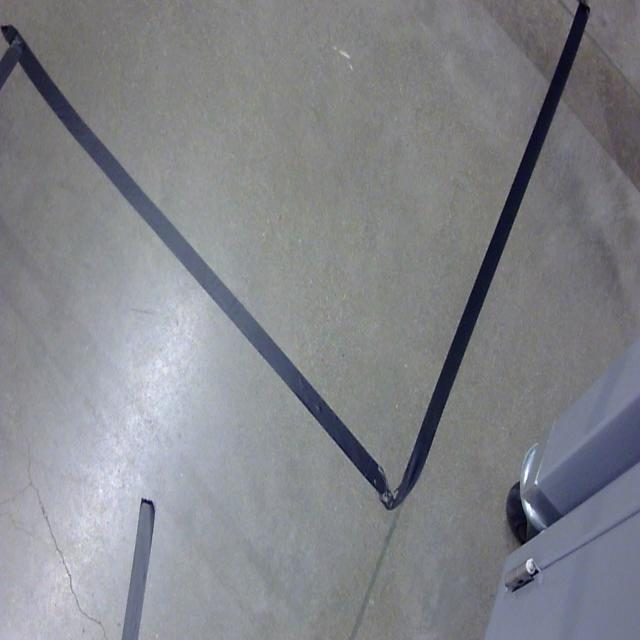tape: (0, 0, 606, 529), (102, 484, 169, 640)
